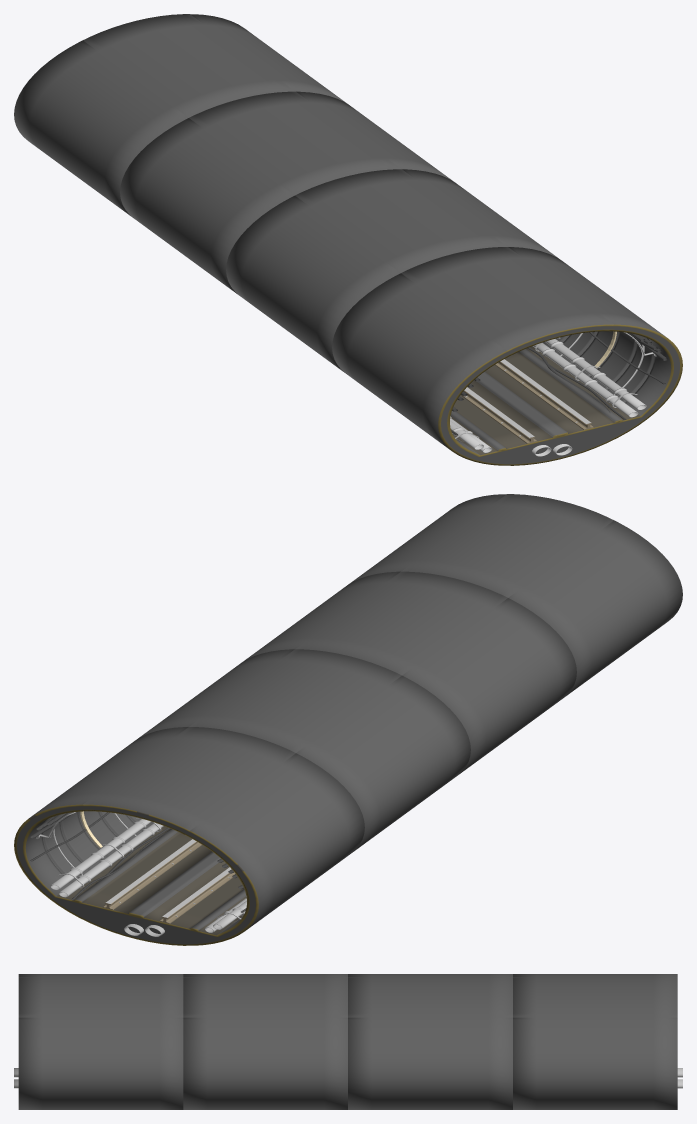
File: TrainTunnel.fbx
3 renders of one model, top to bottom at view 1: azimuth 30°, elevation 25°; view 2: azimuth 150°, elevation 25°; view 3: azimuth 270°, elevation 25°, orthographic. The views are drawn at different scales.
Parts seen in each view (by area): view 1: TrainTunnel; view 2: TrainTunnel; view 3: TrainTunnel.
Boxes of the visible parts, bbox=[...] form: TrainTunnel: bbox=[14, 14, 682, 465]; TrainTunnel: bbox=[14, 494, 682, 945]; TrainTunnel: bbox=[14, 974, 682, 1109].
Bounding box in the file's own units: 44 × 22 × 134.
